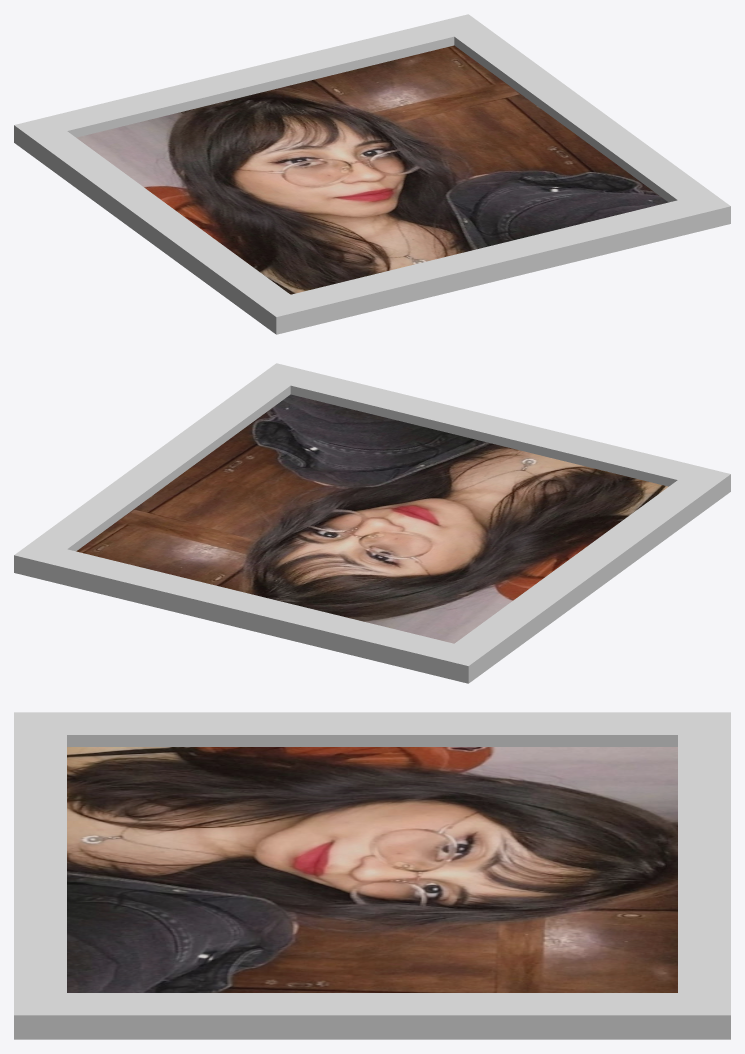
Rendered from Jeny.fbx.
3 views of the same model, one above another, from view 1: azimuth 30°, elevation 25°; view 2: azimuth 150°, elevation 25°; view 3: azimuth 270°, elevation 25° (orthographic). The views are drawn at different scales.
Visible parts, largest first — view 1: Jeny, Cube; view 2: Jeny, Cube; view 3: Jeny, Cube.
Boxes of the visible parts, x1,y1,x2,y2 form: Jeny: [76, 45, 668, 294]; Cube: [14, 14, 730, 334]; Jeny: [76, 394, 668, 643]; Cube: [14, 363, 730, 683]; Jeny: [67, 747, 677, 992]; Cube: [14, 712, 730, 1039].
Bounding box in the file's own units: 108 × 4 × 108.
